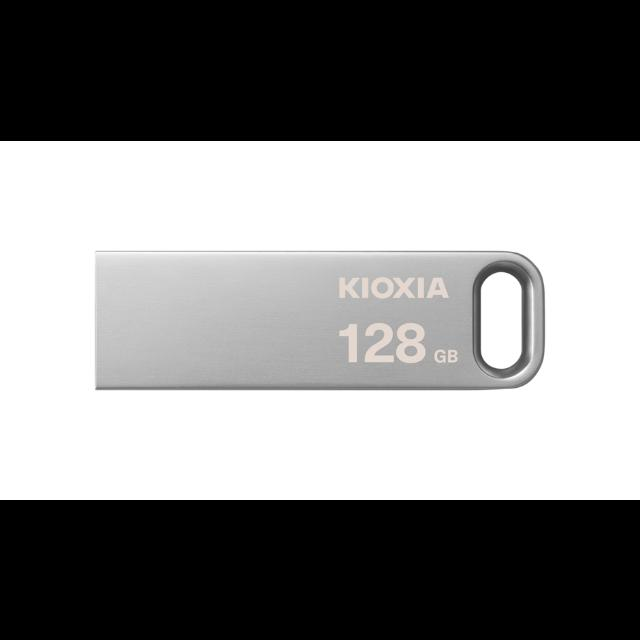USB-Flash-Drive: (91, 246, 549, 392)
